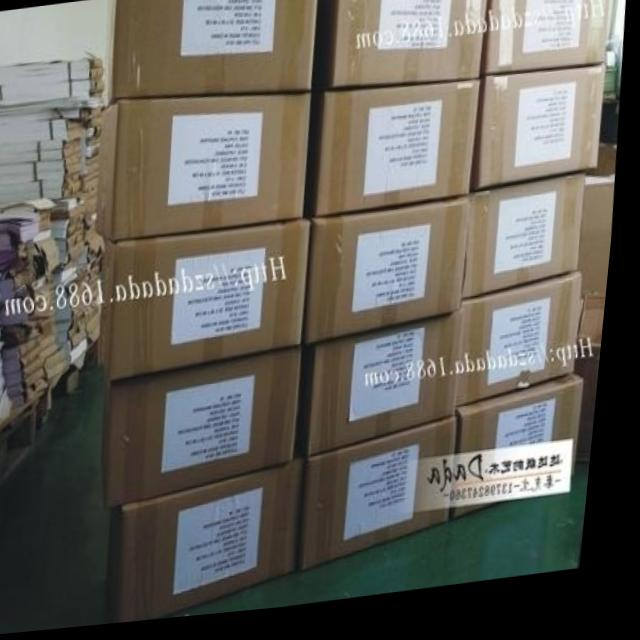box: (103, 221, 319, 385), (110, 349, 310, 508), (118, 465, 312, 627), (100, 98, 313, 244), (308, 201, 475, 352), (309, 420, 466, 577), (310, 85, 483, 222), (107, 0, 318, 109), (318, 315, 469, 462), (460, 379, 592, 526), (474, 75, 610, 199), (464, 285, 584, 418), (320, 0, 487, 95), (469, 184, 592, 308), (480, 0, 612, 86), (584, 155, 618, 310), (581, 308, 612, 470)
